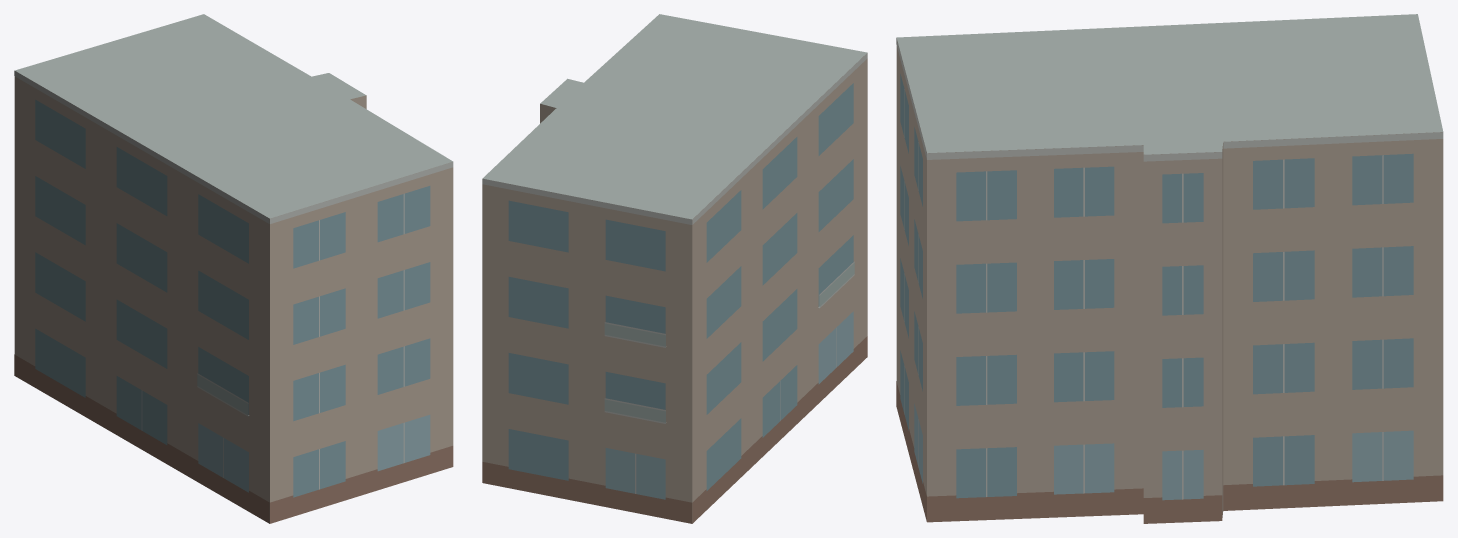
The model's file is survey-upis-32638642.glb.
3 views of the same model, side by side, from view 1: azimuth 30°, elevation 25°; view 2: azimuth 150°, elevation 25°; view 3: azimuth 270°, elevation 25° (orthographic). The views are drawn at different scales.
Visible parts, largest first — view 1: survey-upis-32638642.tmp; view 2: survey-upis-32638642.tmp; view 3: survey-upis-32638642.tmp.
Part boxes in pixels (box(x1,y1,x2,y2)): survey-upis-32638642.tmp: box(14, 14, 453, 523); survey-upis-32638642.tmp: box(482, 14, 867, 523); survey-upis-32638642.tmp: box(896, 14, 1443, 523).
Size of the model in its own units: 10.76 by 13.15 by 17.67.
